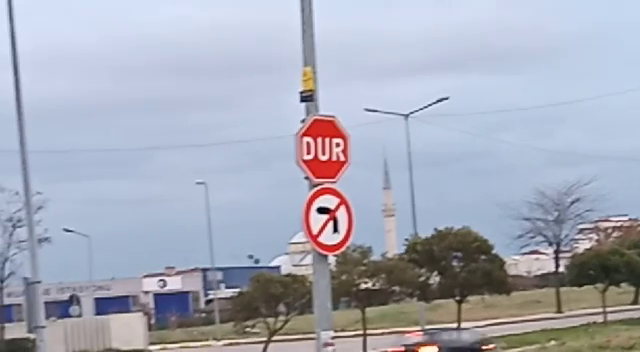no_left: (300, 186, 356, 259)
stop: (292, 113, 353, 187)
